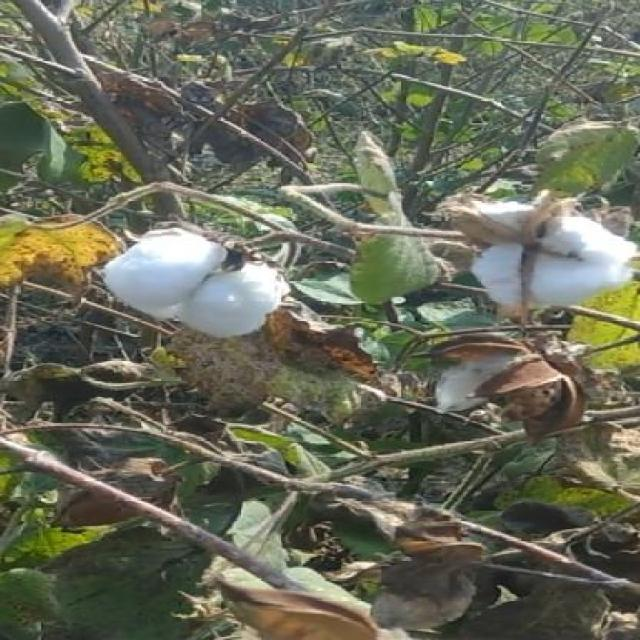cotton_ready: (58, 216, 312, 361), (393, 190, 636, 315)
